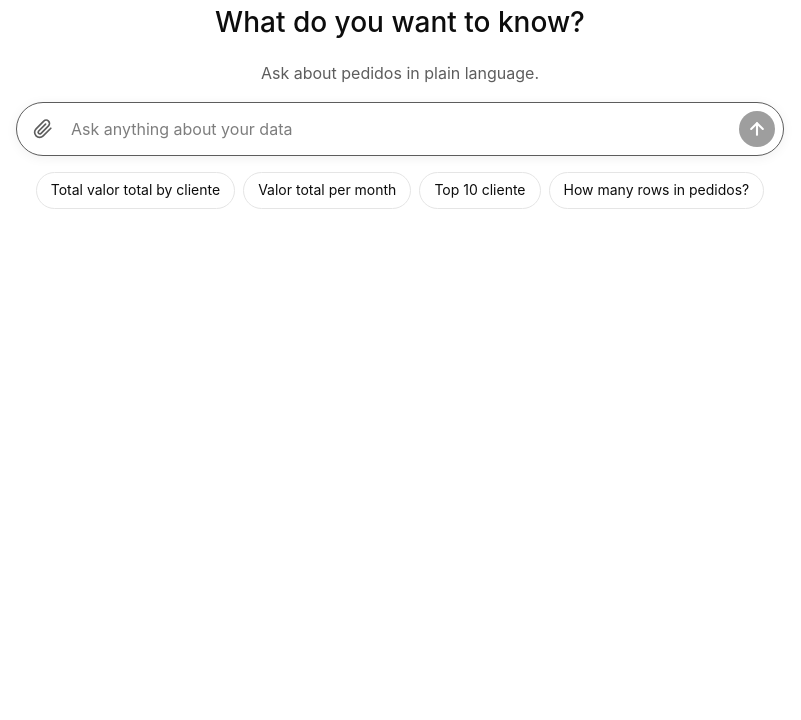
Scenario: ChatView › lists sub-questions that failed
Type "Quanto cada cliente gastou?" into the text box named "Question" at (400,129), box [67,111,733,147]
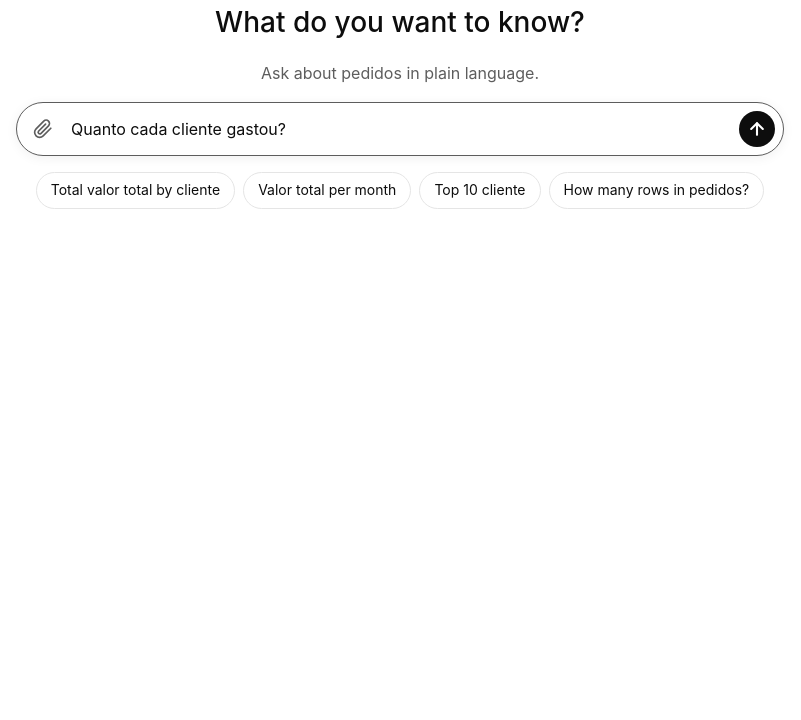
Click the button named "Send" at (757,129), box [739,111,775,147]
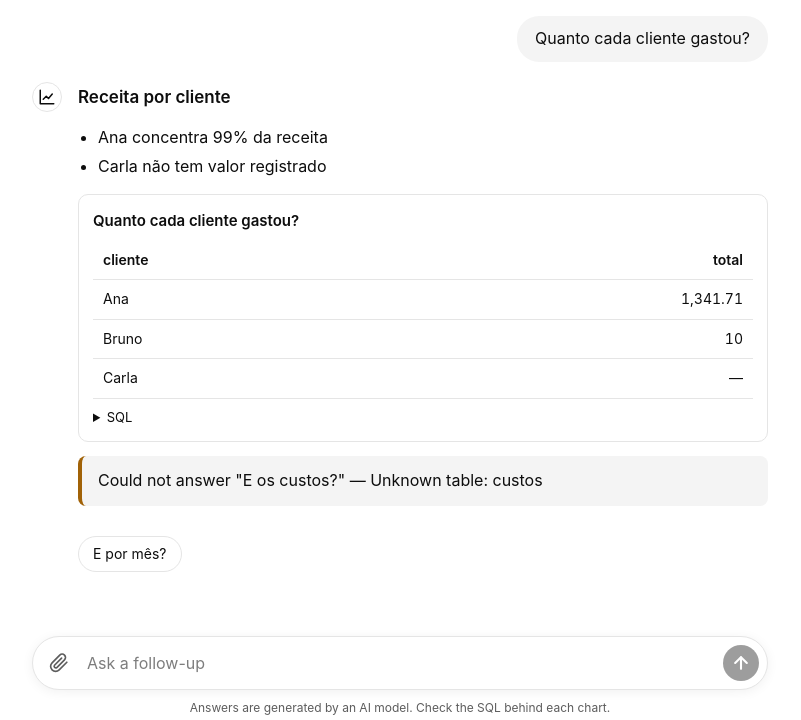
Expected: the text "Could not answer \"E os custos?\" — Unknown table: custos" is shown, [98,470,543,490]
